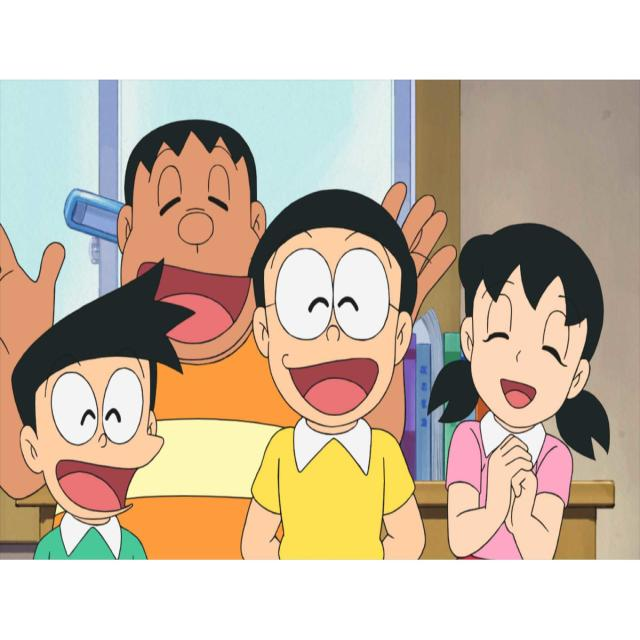jaian: (106, 101, 274, 373)
nobita: (239, 174, 450, 468)
shizuka: (423, 205, 634, 485)
suneo: (4, 255, 211, 554)
